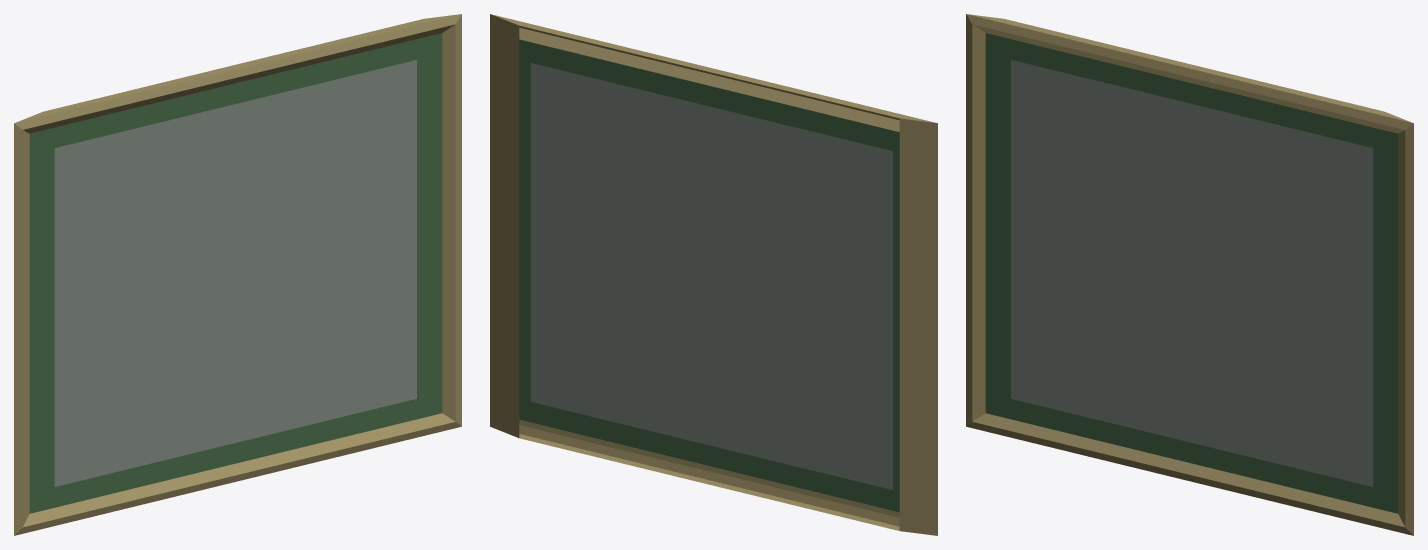
The model's file is frame3.gltf.
3 renders of one model, left to right at view 1: azimuth 30°, elevation 25°; view 2: azimuth 150°, elevation 25°; view 3: azimuth 330°, elevation 25°, orthographic.
Visible parts, largest first — view 1: Plane.005; view 2: Plane.005; view 3: Plane.005.
Boxes of the visible parts, x1,y1,x2,y2 form: Plane.005: [14, 14, 461, 535]; Plane.005: [490, 14, 937, 535]; Plane.005: [966, 14, 1413, 535].
Size of the model in its own units: 1.43 by 1.26 by 0.0321.
